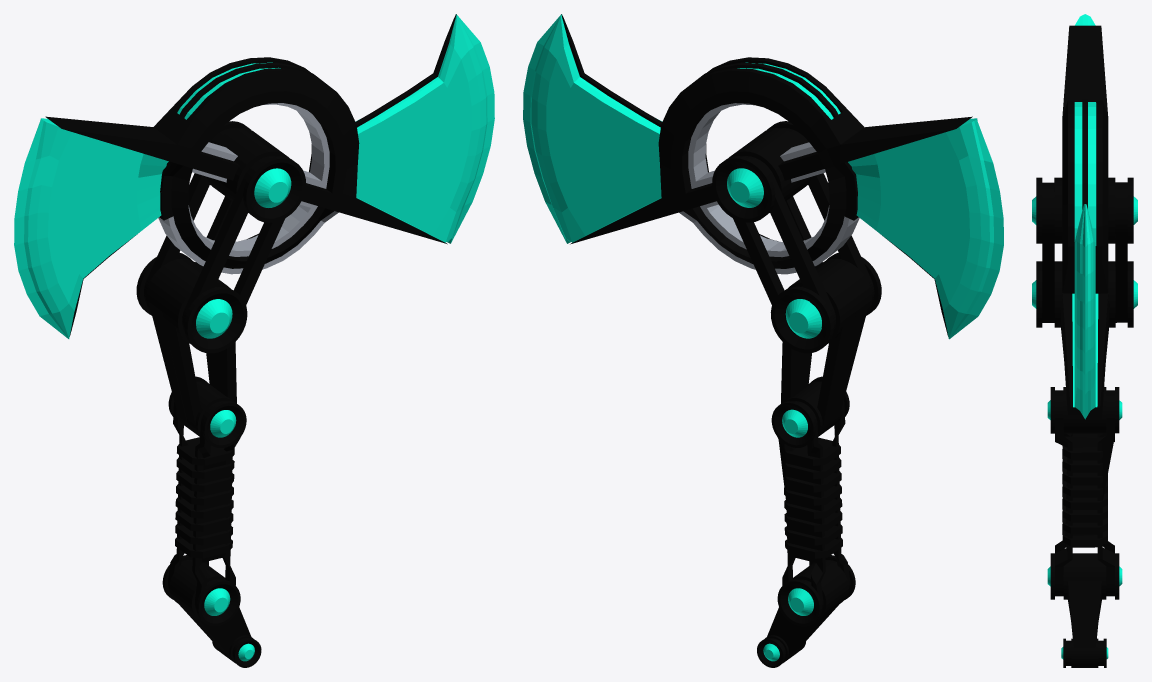
Rendered from Axe 5 Fagerone.fbx.
3 renders of one model, left to right at view 1: azimuth 30°, elevation 25°; view 2: azimuth 150°, elevation 25°; view 3: azimuth 270°, elevation 25°, orthographic. The views are drawn at different scales.
Visible parts, largest first — view 1: Cylinder.001; view 2: Cylinder.001; view 3: Cylinder.001.
Boxes of the visible parts, x1=… form: Cylinder.001: x1=14, y1=14, x2=494, y2=667; Cylinder.001: x1=523, y1=14, x2=1003, y2=667; Cylinder.001: x1=1032, y1=14, x2=1137, y2=667.
Bounding box in the file's own units: 2.82 × 3.32 × 0.5643.
Materials: 2 (2 with a texture image).
